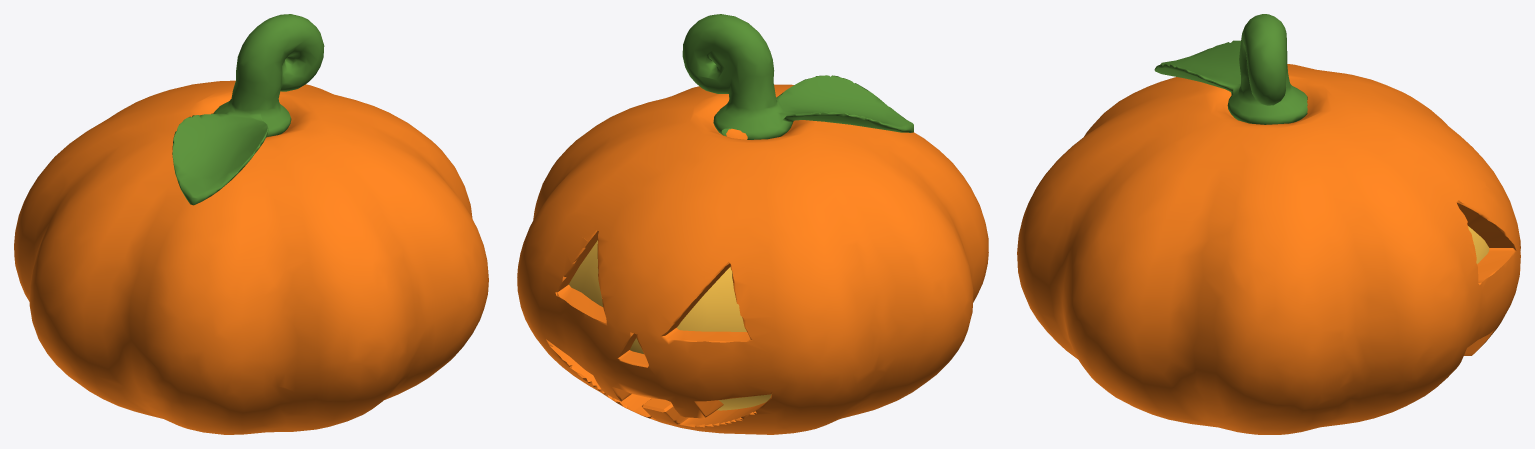
Rendered from PumpkinHat.obj.
The picture shows the model from 3 angles, left to right: view 1: azimuth 30°, elevation 25°; view 2: azimuth 150°, elevation 25°; view 3: azimuth 270°, elevation 25°; orthographic projection. The views are drawn at different scales.
Parts seen in each view (by area): view 1: HatShell, HatStem; view 2: HatShell, HatStem, HatGlow; view 3: HatShell, HatStem.
Boxes of the visible parts, x1,y1,x2,y2 form: HatShell: (14, 80, 488, 434); HatStem: (172, 14, 324, 205); HatShell: (517, 84, 988, 434); HatStem: (682, 14, 913, 139); HatGlow: (569, 240, 771, 410); HatShell: (1017, 64, 1520, 434); HatStem: (1154, 14, 1307, 124).
Size of the model in its own units: 1.58 by 1.36 by 1.58.
